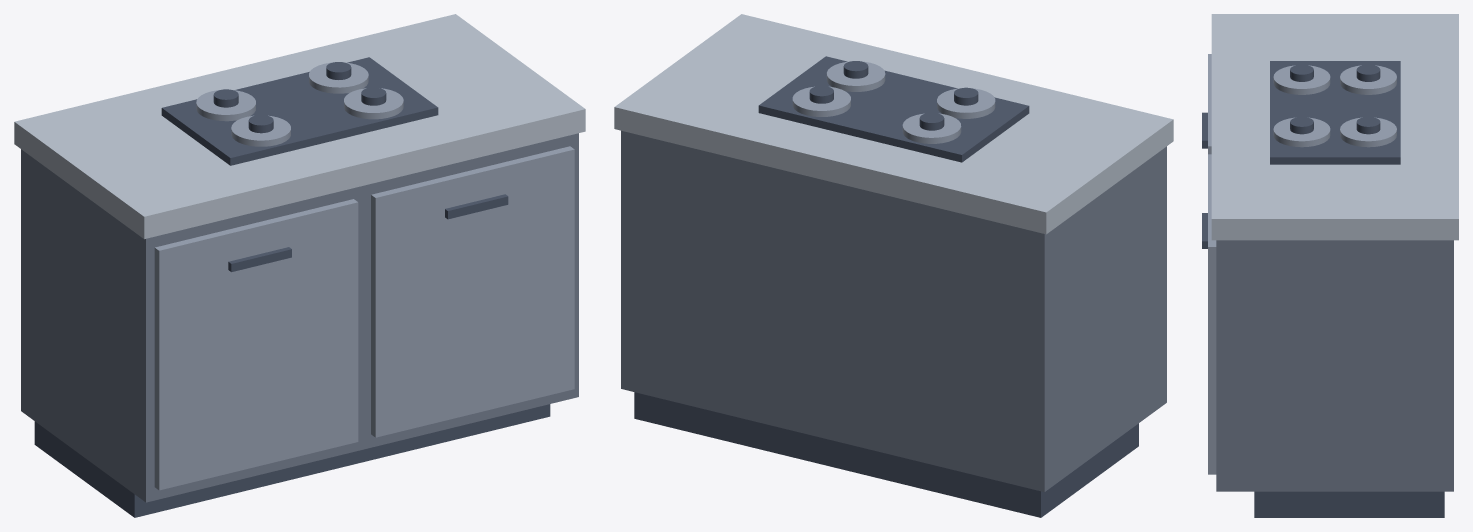
The model's file is 地柜带燃气灶.glb.
3 renders of one model, left to right at view 1: azimuth 30°, elevation 25°; view 2: azimuth 150°, elevation 25°; view 3: azimuth 270°, elevation 25°, orthographic. The views are drawn at different scales.
Parts seen in each view (by area): view 1: kitchencooktop; view 2: kitchencooktop; view 3: kitchencooktop.
Part boxes in pixels (left/top/right/bottom): kitchencooktop: left=14, top=14, right=585, bottom=517; kitchencooktop: left=614, top=14, right=1173, bottom=517; kitchencooktop: left=1202, top=14, right=1458, bottom=517.
Bounding box in the file's own units: 1.22 × 0.9075 × 0.648.
